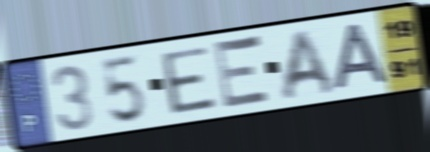3: (49, 62, 94, 132)
5: (99, 52, 148, 126)
A: (278, 27, 339, 104), (332, 20, 392, 93)
E: (212, 32, 274, 113), (158, 43, 220, 117)
